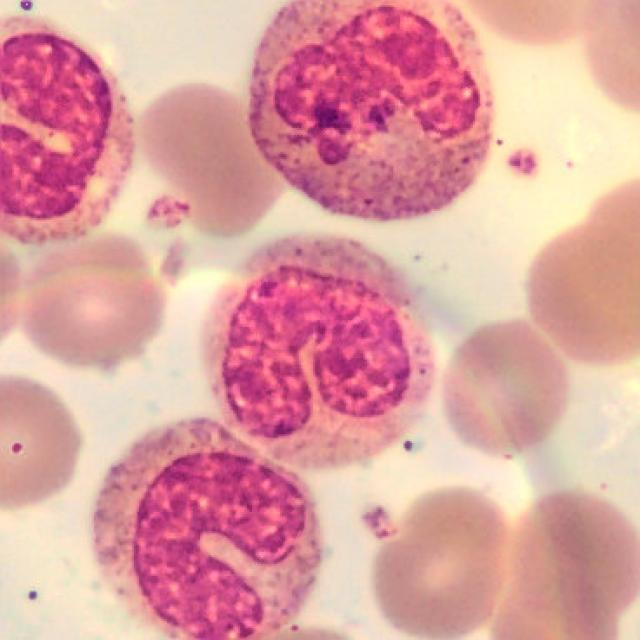Bastonete: (94, 420, 323, 640), (219, 242, 437, 472)
Metamielocito: (247, 0, 496, 225)
